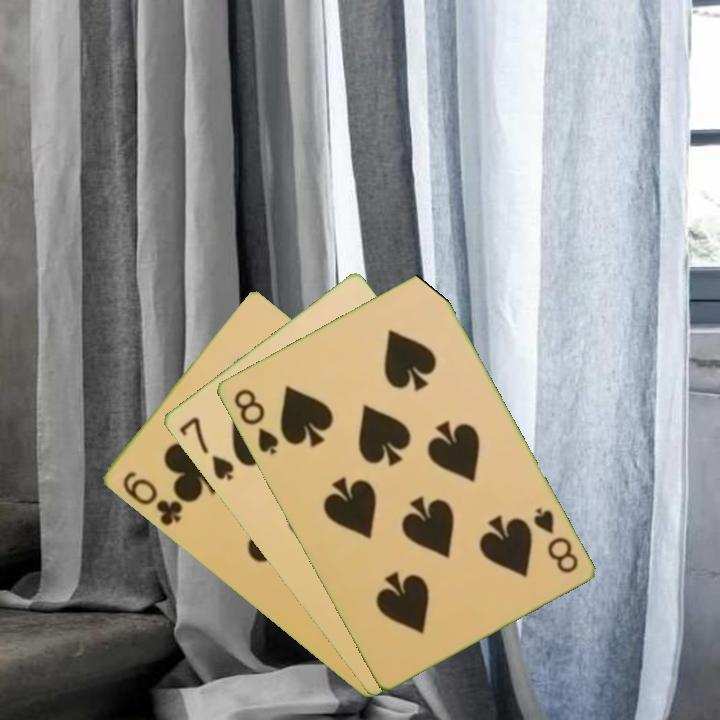6c: (118, 467, 185, 529)
7s: (175, 413, 237, 483)
8s: (229, 385, 281, 458), (529, 503, 581, 576)
